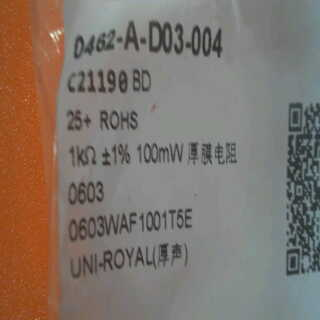1kR: (67, 142, 98, 171)
